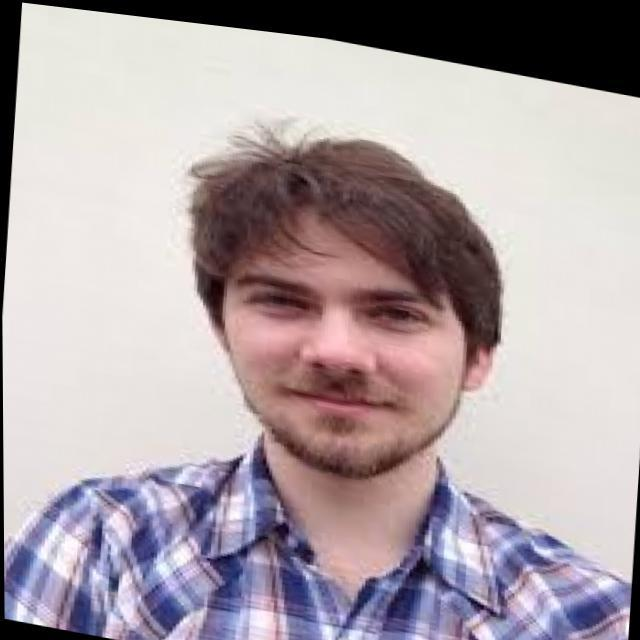Nonhelmet: (179, 117, 509, 479)
